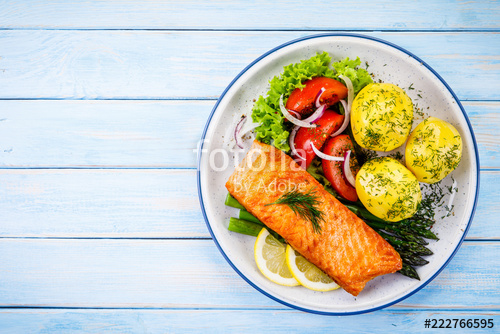boiled potatoes: (351, 79, 456, 225)
chopped lettuce: (252, 49, 299, 154)
